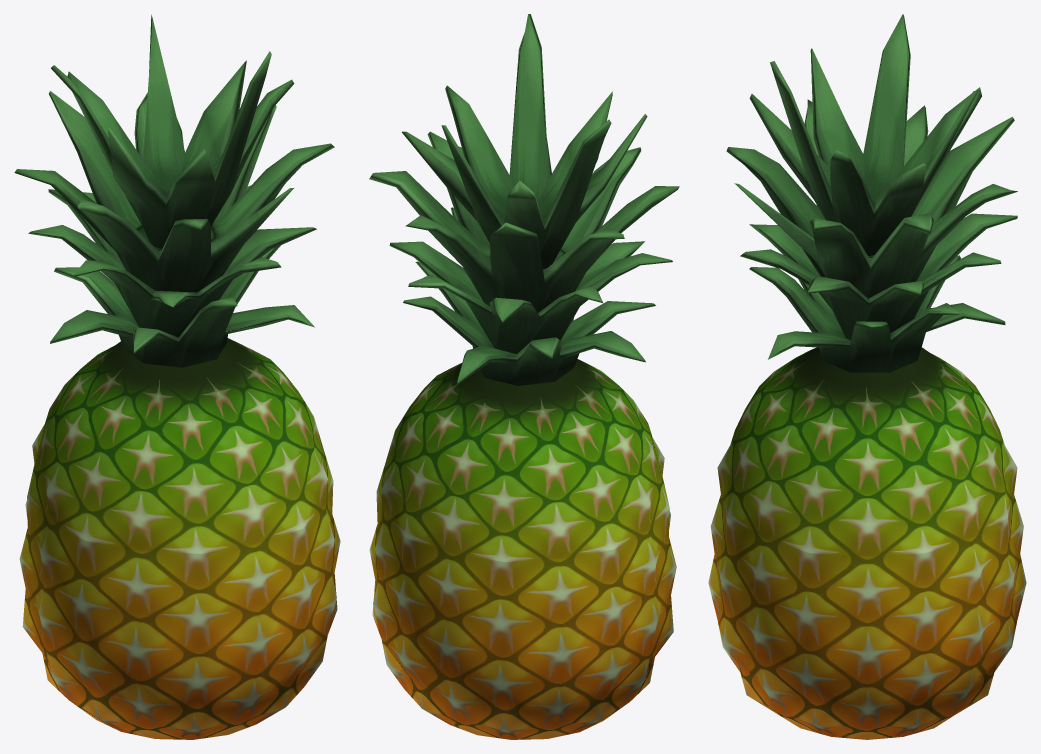
The model's file is Pineapple_Ripe_Cut.fbx.
The picture shows the model from 3 angles, left to right: view 1: azimuth 30°, elevation 25°; view 2: azimuth 150°, elevation 25°; view 3: azimuth 270°, elevation 25°; orthographic projection. The views are drawn at different scales.
Visible parts, largest first — view 1: Pineapple_Ripe_Top, Pineapple_Ripe_Bottom; view 2: Pineapple_Ripe_Top, Pineapple_Ripe_Bottom; view 3: Pineapple_Ripe_Top, Pineapple_Ripe_Bottom.
Part boxes in pixels (bbox=[...]): Pineapple_Ripe_Top: bbox=[14, 14, 334, 553]; Pineapple_Ripe_Bottom: bbox=[19, 481, 340, 739]; Pineapple_Ripe_Top: bbox=[369, 14, 679, 561]; Pineapple_Ripe_Bottom: bbox=[369, 493, 676, 739]; Pineapple_Ripe_Top: bbox=[717, 14, 1017, 556]; Pineapple_Ripe_Bottom: bbox=[708, 495, 1026, 739].
Bounding box in the file's own units: 56.07 × 131 × 56.07.
